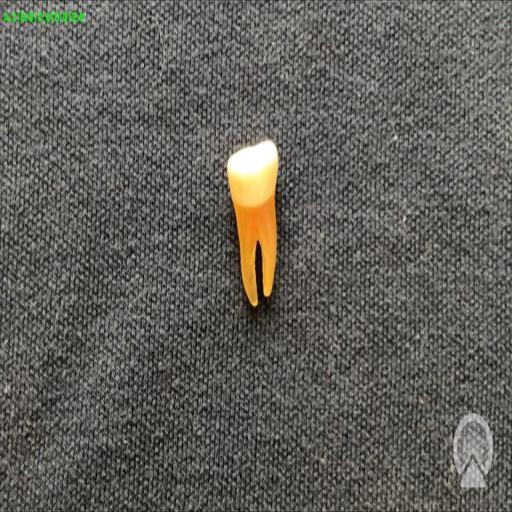diente: (226, 140, 279, 309)
